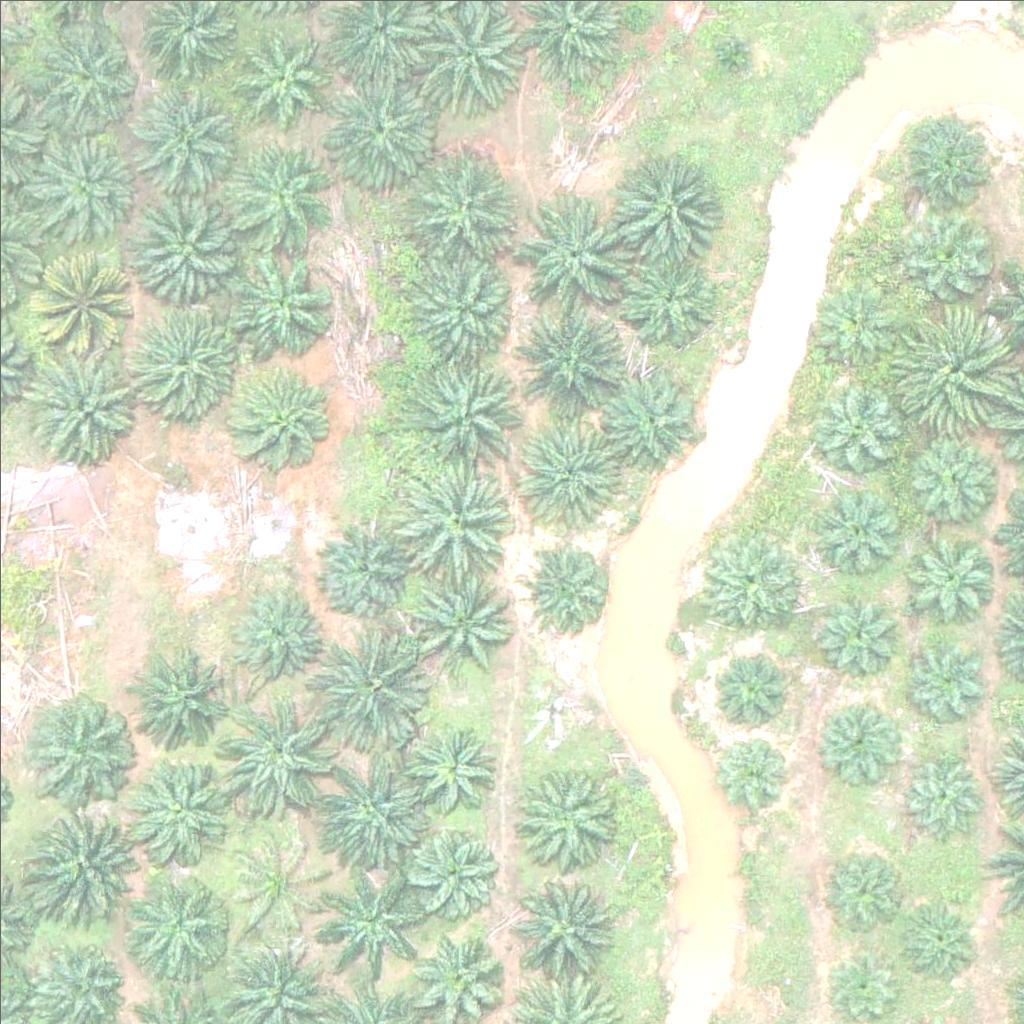Kelapa_Sawit: (401, 256, 514, 370), (313, 628, 426, 742), (410, 351, 523, 465), (512, 415, 625, 529), (126, 184, 239, 297), (224, 242, 337, 355), (613, 145, 726, 258), (26, 804, 139, 917), (312, 755, 425, 868), (896, 315, 1009, 428), (222, 136, 334, 250), (119, 753, 231, 867), (224, 364, 336, 478), (514, 307, 626, 421), (504, 864, 616, 978), (321, 62, 433, 175), (410, 154, 522, 267), (410, 6, 522, 119), (522, 197, 634, 310), (28, 346, 140, 459), (138, 302, 250, 415), (25, 688, 137, 801), (221, 699, 333, 812), (316, 868, 428, 981), (400, 575, 512, 688), (396, 461, 508, 574), (41, 137, 141, 238), (39, 25, 139, 126), (133, 80, 233, 181), (232, 25, 332, 126), (619, 247, 719, 348), (223, 838, 323, 939), (316, 520, 416, 621), (406, 820, 506, 921), (402, 724, 502, 825), (513, 768, 613, 869), (700, 535, 800, 636), (808, 474, 908, 575), (600, 367, 700, 468), (35, 244, 135, 344), (898, 113, 998, 213), (130, 648, 230, 748), (133, 876, 233, 976), (227, 575, 327, 675), (898, 429, 998, 529), (894, 525, 994, 625), (906, 218, 994, 306), (823, 844, 911, 932), (809, 283, 897, 371), (900, 634, 988, 722), (525, 547, 612, 635), (895, 896, 982, 984), (902, 748, 989, 836), (813, 691, 900, 779), (706, 645, 793, 733), (812, 375, 899, 463), (817, 596, 904, 684), (824, 943, 899, 1019), (715, 730, 790, 806), (711, 32, 761, 83)
